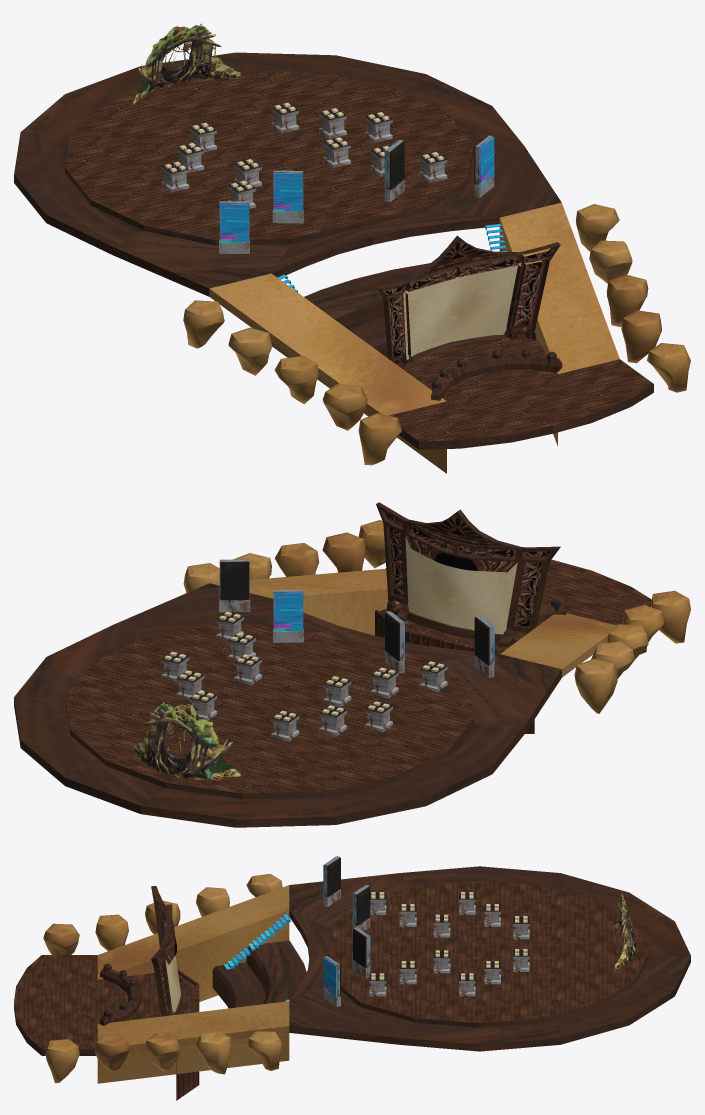
The model's file is WK_Environment.fbx.
3 renders of one model, top to bottom at view 1: azimuth 30°, elevation 25°; view 2: azimuth 150°, elevation 25°; view 3: azimuth 270°, elevation 25°, orthographic. The views are drawn at different scales.
Parts seen in each view (by area): view 1: WK_Stage01, WK_MusicianPlat, WK_Panggung, WK_Layer, WK_Seat, Portal05, WK_PuppetPedestal, MH_infopanelV4, MH_infopanelV4.001, MH_infopanelV4.002, MH_infopanelV4.003; view 2: WK_Stage01, WK_MusicianPlat, WK_Panggung, WK_Layer, Portal05, MH_infopanelV4.003, MH_infopanelV4.002, MH_infopanelV4.001, MH_infopanelV4, WK_Display08, WK_Display12, WK_Display04 (+9 smaller); view 3: WK_Stage01, WK_MusicianPlat, WK_Seat, WK_Panggung, WK_PuppetPedestal, Portal05, MH_infopanelV4.002, MH_infopanelV4.001, MH_infopanelV4.003, MH_infopanelV4, WK_Stair01, WK_Layer (+11 smaller).
Part boxes in pixels (x1=…): WK_Stage01: x1=14, y1=52, x2=653, y2=473; WK_MusicianPlat: x1=183, y1=204, x2=690, y2=465; WK_Panggung: x1=376, y1=235, x2=560, y2=368; WK_Layer: x1=403, y1=262, x2=521, y2=359; WK_Seat: x1=304, y1=263, x2=522, y2=357; Portal05: x1=133, y1=23, x2=240, y2=104; WK_PuppetPedestal: x1=431, y1=348, x2=562, y2=400; MH_infopanelV4: x1=272, y1=170, x2=303, y2=223; MH_infopanelV4.001: x1=219, y1=201, x2=249, y2=254; MH_infopanelV4.002: x1=384, y1=140, x2=404, y2=202; MH_infopanelV4.003: x1=474, y1=135, x2=494, y2=197; WK_Stage01: x1=14, y1=559, x2=651, y2=827; WK_MusicianPlat: x1=183, y1=520, x2=690, y2=713; WK_Panggung: x1=376, y1=502, x2=560, y2=647; WK_Layer: x1=405, y1=537, x2=517, y2=634; Portal05: x1=133, y1=702, x2=240, y2=781; MH_infopanelV4.003: x1=219, y1=559, x2=250, y2=612; MH_infopanelV4.002: x1=273, y1=590, x2=303, y2=642; MH_infopanelV4.001: x1=474, y1=615, x2=494, y2=677; MH_infopanelV4: x1=385, y1=611, x2=404, y2=673; WK_Display08: x1=319, y1=705, x2=346, y2=736; WK_Display12: x1=419, y1=661, x2=447, y2=692; WK_Display04: x1=234, y1=654, x2=261, y2=685; WK_Stage01: x1=14, y1=866, x2=690, y2=1100; WK_MusicianPlat: x1=43, y1=873, x2=282, y2=1083; WK_Seat: x1=212, y1=940, x2=306, y2=1042; WK_Panggung: x1=151, y1=886, x2=183, y2=1016; WK_PuppetPedestal: x1=100, y1=963, x2=140, y2=1025; Portal05: x1=615, y1=893, x2=636, y2=969; MH_infopanelV4.002: x1=352, y1=927, x2=370, y2=978; MH_infopanelV4.001: x1=323, y1=856, x2=340, y2=906; MH_infopanelV4.003: x1=323, y1=956, x2=340, y2=1006; MH_infopanelV4: x1=352, y1=885, x2=370, y2=934; WK_Stair01: x1=224, y1=914, x2=290, y2=1040; WK_Layer: x1=165, y1=922, x2=180, y2=1012.
Size of what is drawn, in the model's own units: 2500 by 1134 by 4010.
